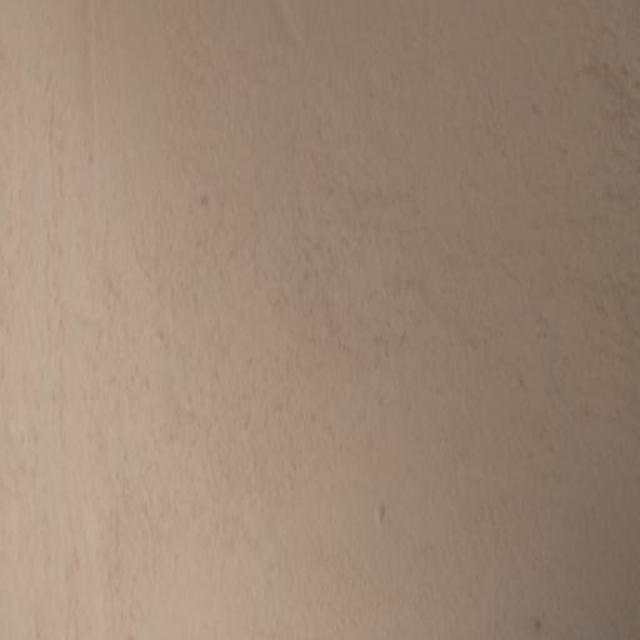normal_wall: (2, 0, 636, 640)
